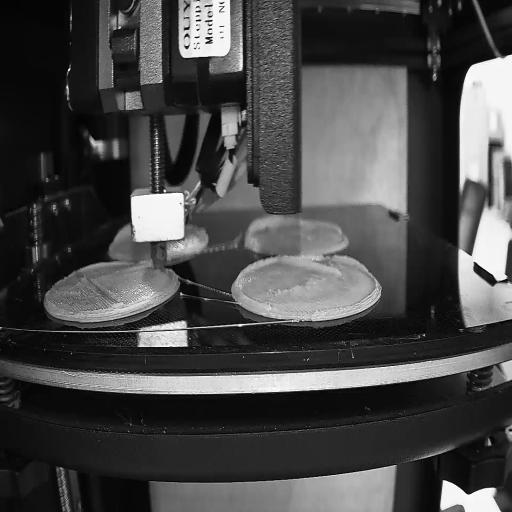over_extrusion: (274, 256, 372, 283), (234, 257, 268, 315), (245, 214, 294, 233)
